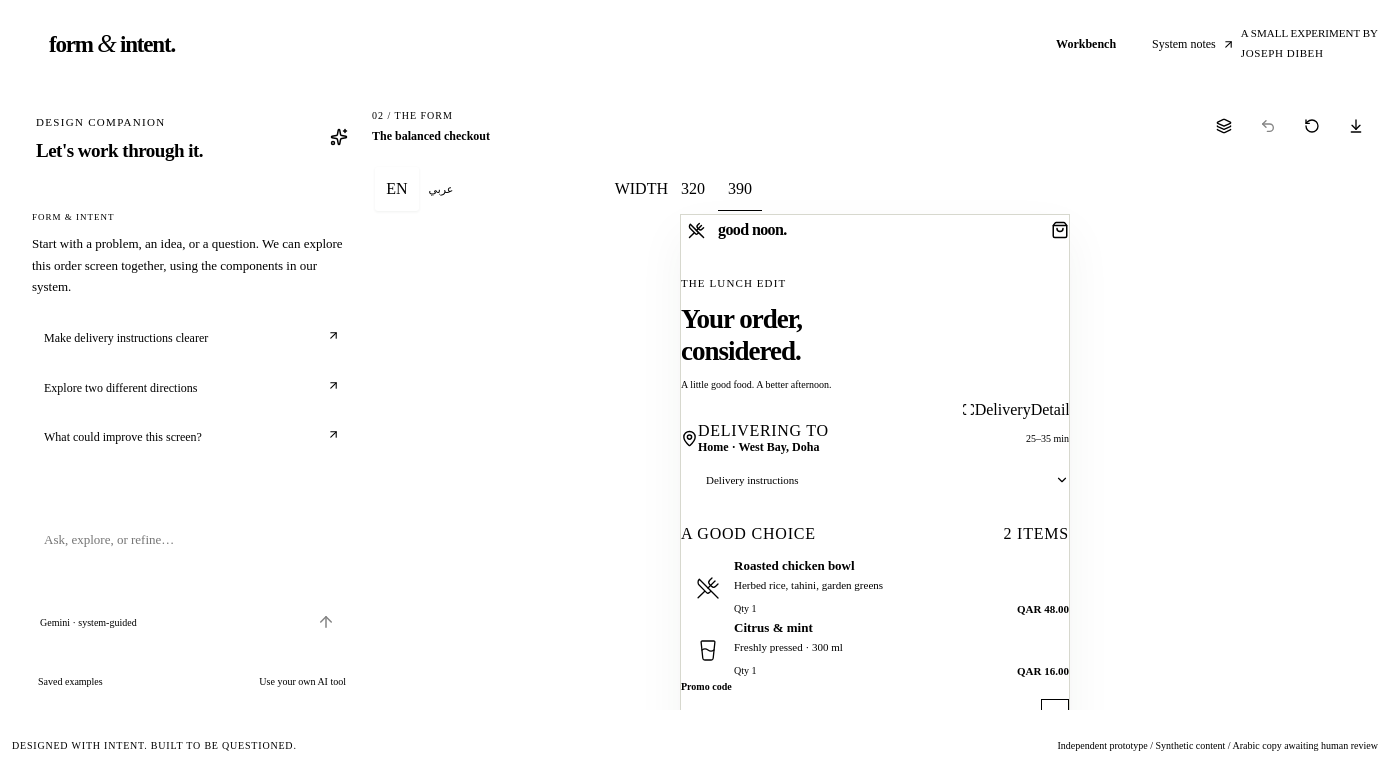
Scenario: designer workspace › preserves edits typed while generation is in flight
The image size is (1390, 768).
In the text box named "Message the companion": (192, 561) [40,526,344,596], type "Make it compact"
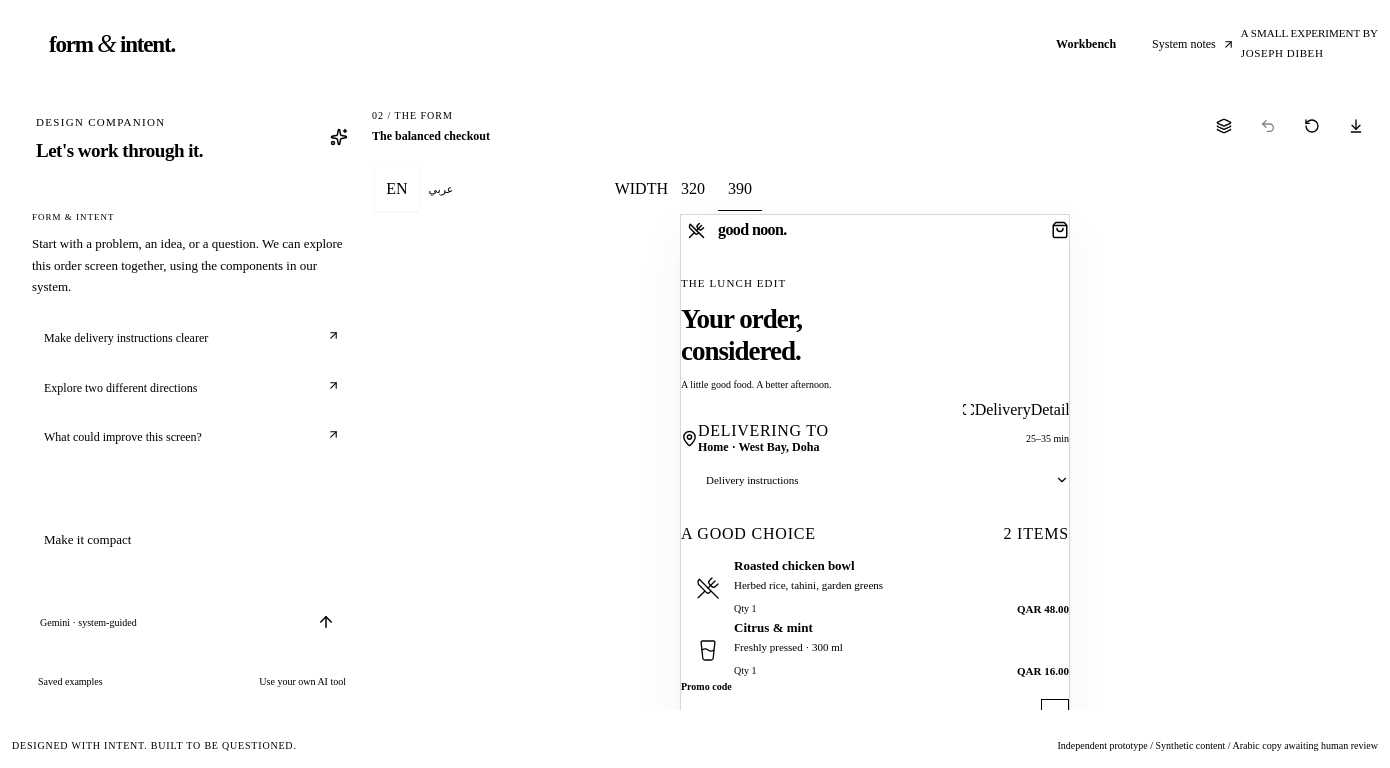
Click the button named "Send message": (326, 622) [308,604,344,640]
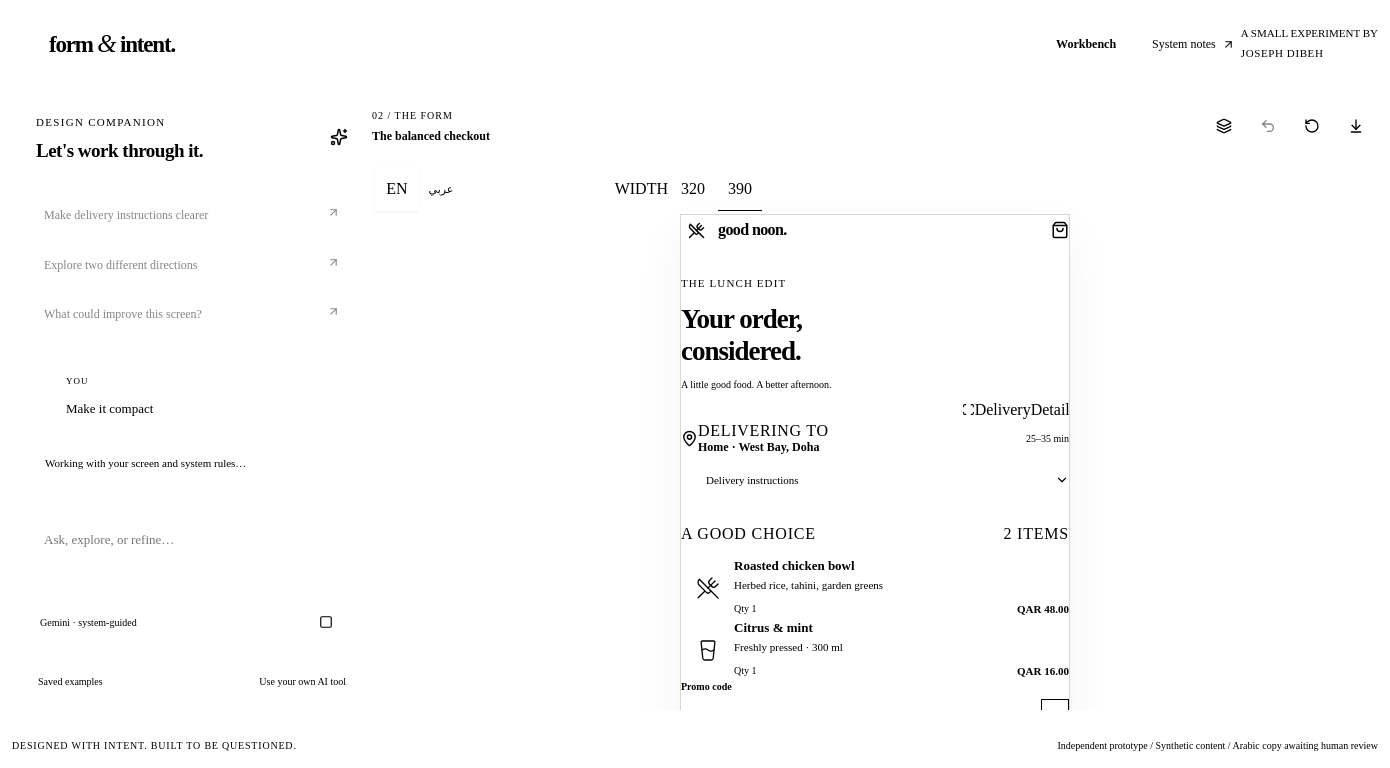
In the text box named "Message the companion": (192, 561) [40,526,344,596], type "New edits made while waiting"
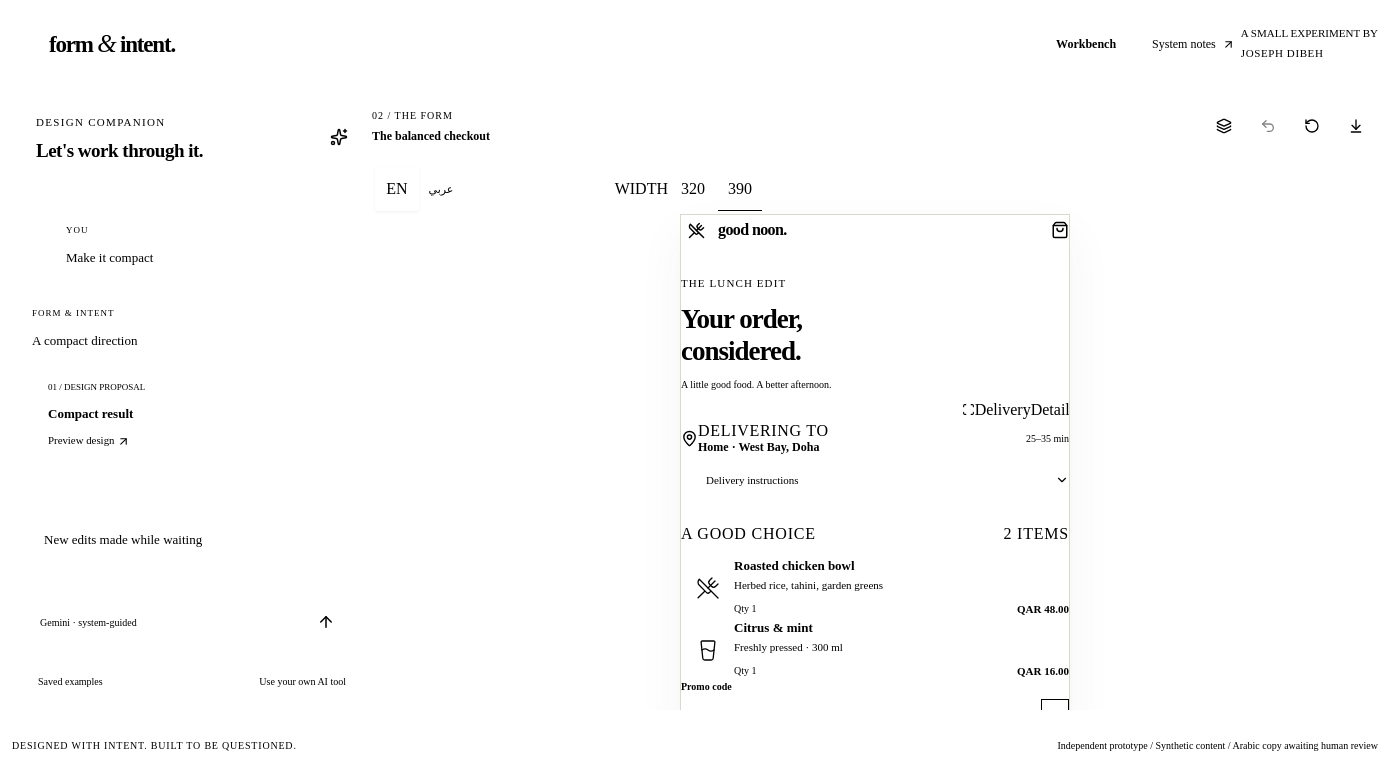
Result: the text "A compact direction" is shown at [32,333,137,348]
